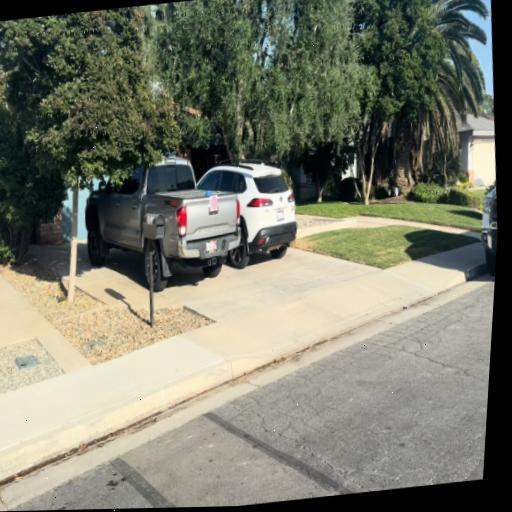bullseye: (210, 195, 218, 212)
